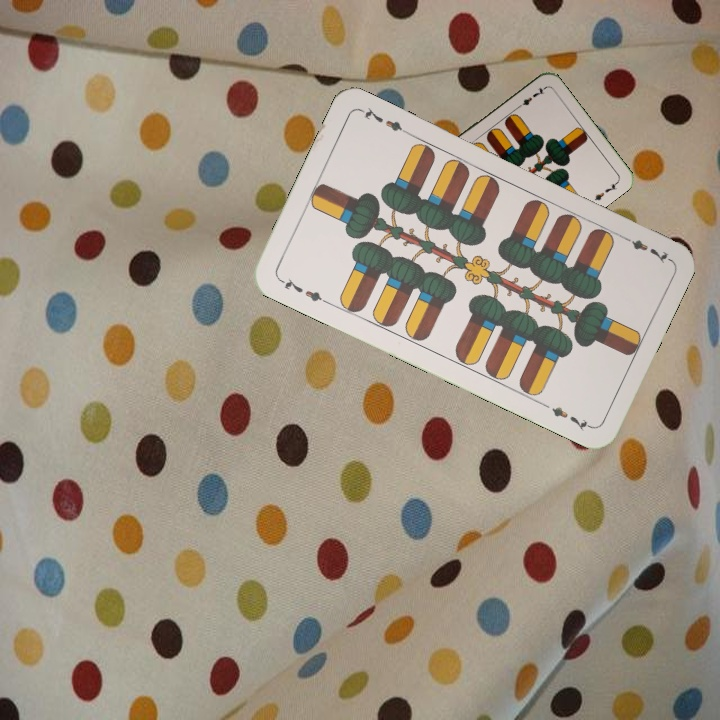E7: (616, 231, 672, 265), (275, 274, 331, 307), (512, 84, 547, 112)
